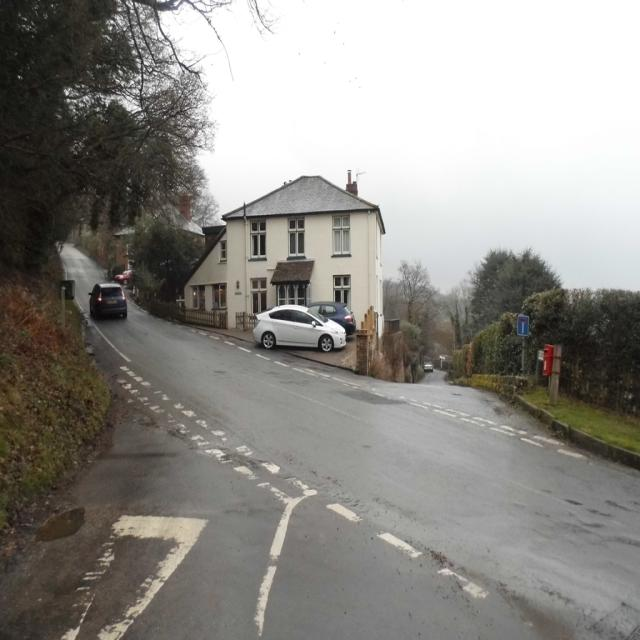car: (251, 304, 346, 352), (87, 282, 126, 320)
